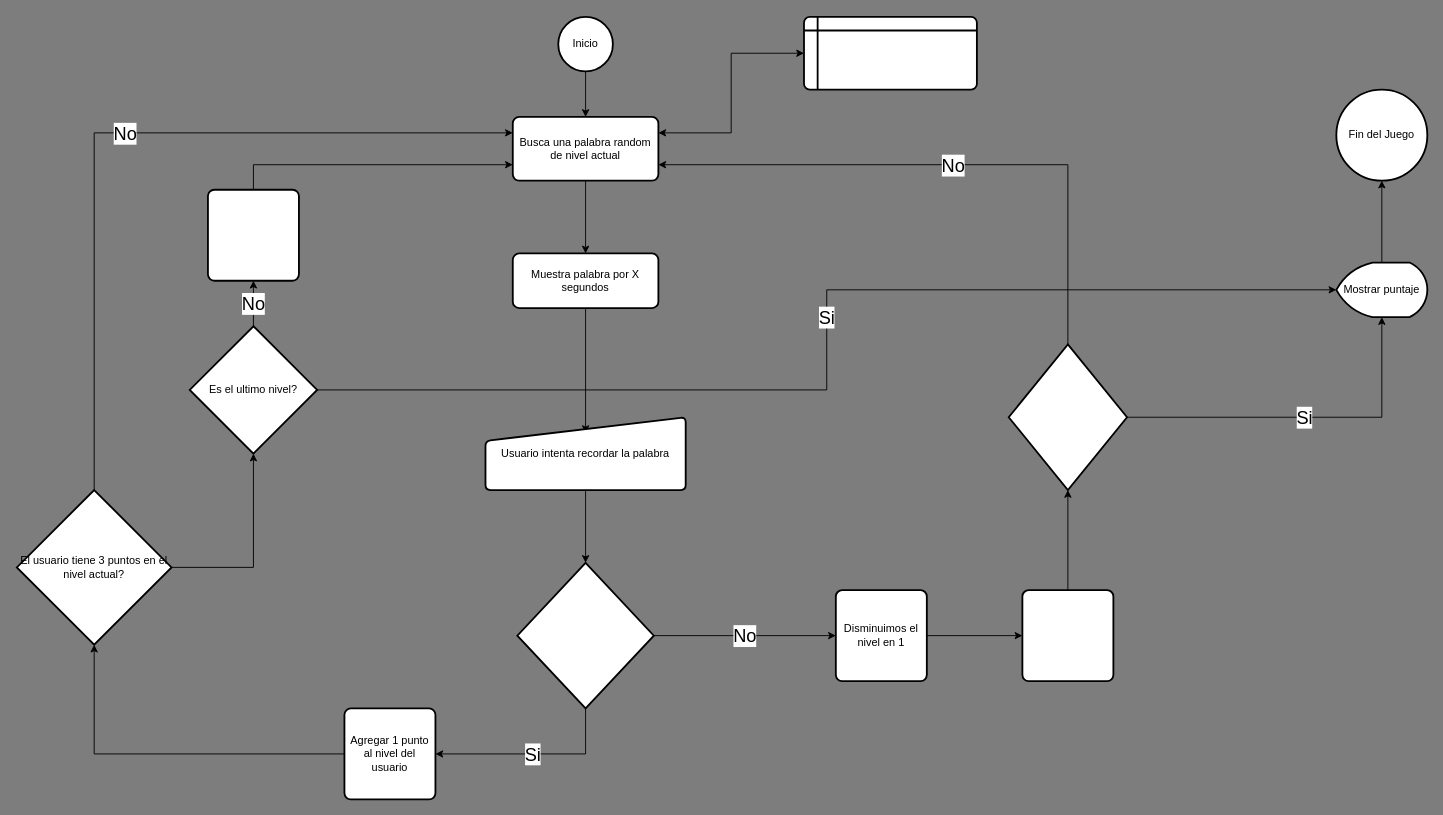
Some shapes in this 1443 by 815 pixel diagram are drawn without their labels. Each missing label, with the centre of its shape:
"Agregamos 1 strike al usuario" belongs at (x=1067, y=635).
"El usuario tiene 3 strikes?" belongs at (x=1067, y=416).
"Listado de palabras en localstorage" belongs at (x=890, y=52).
"Palabra del usuario es igual a la mostrada por el sistema?" belongs at (x=585, y=635).
"Sube el nivel de dificultad" belongs at (x=253, y=234).
